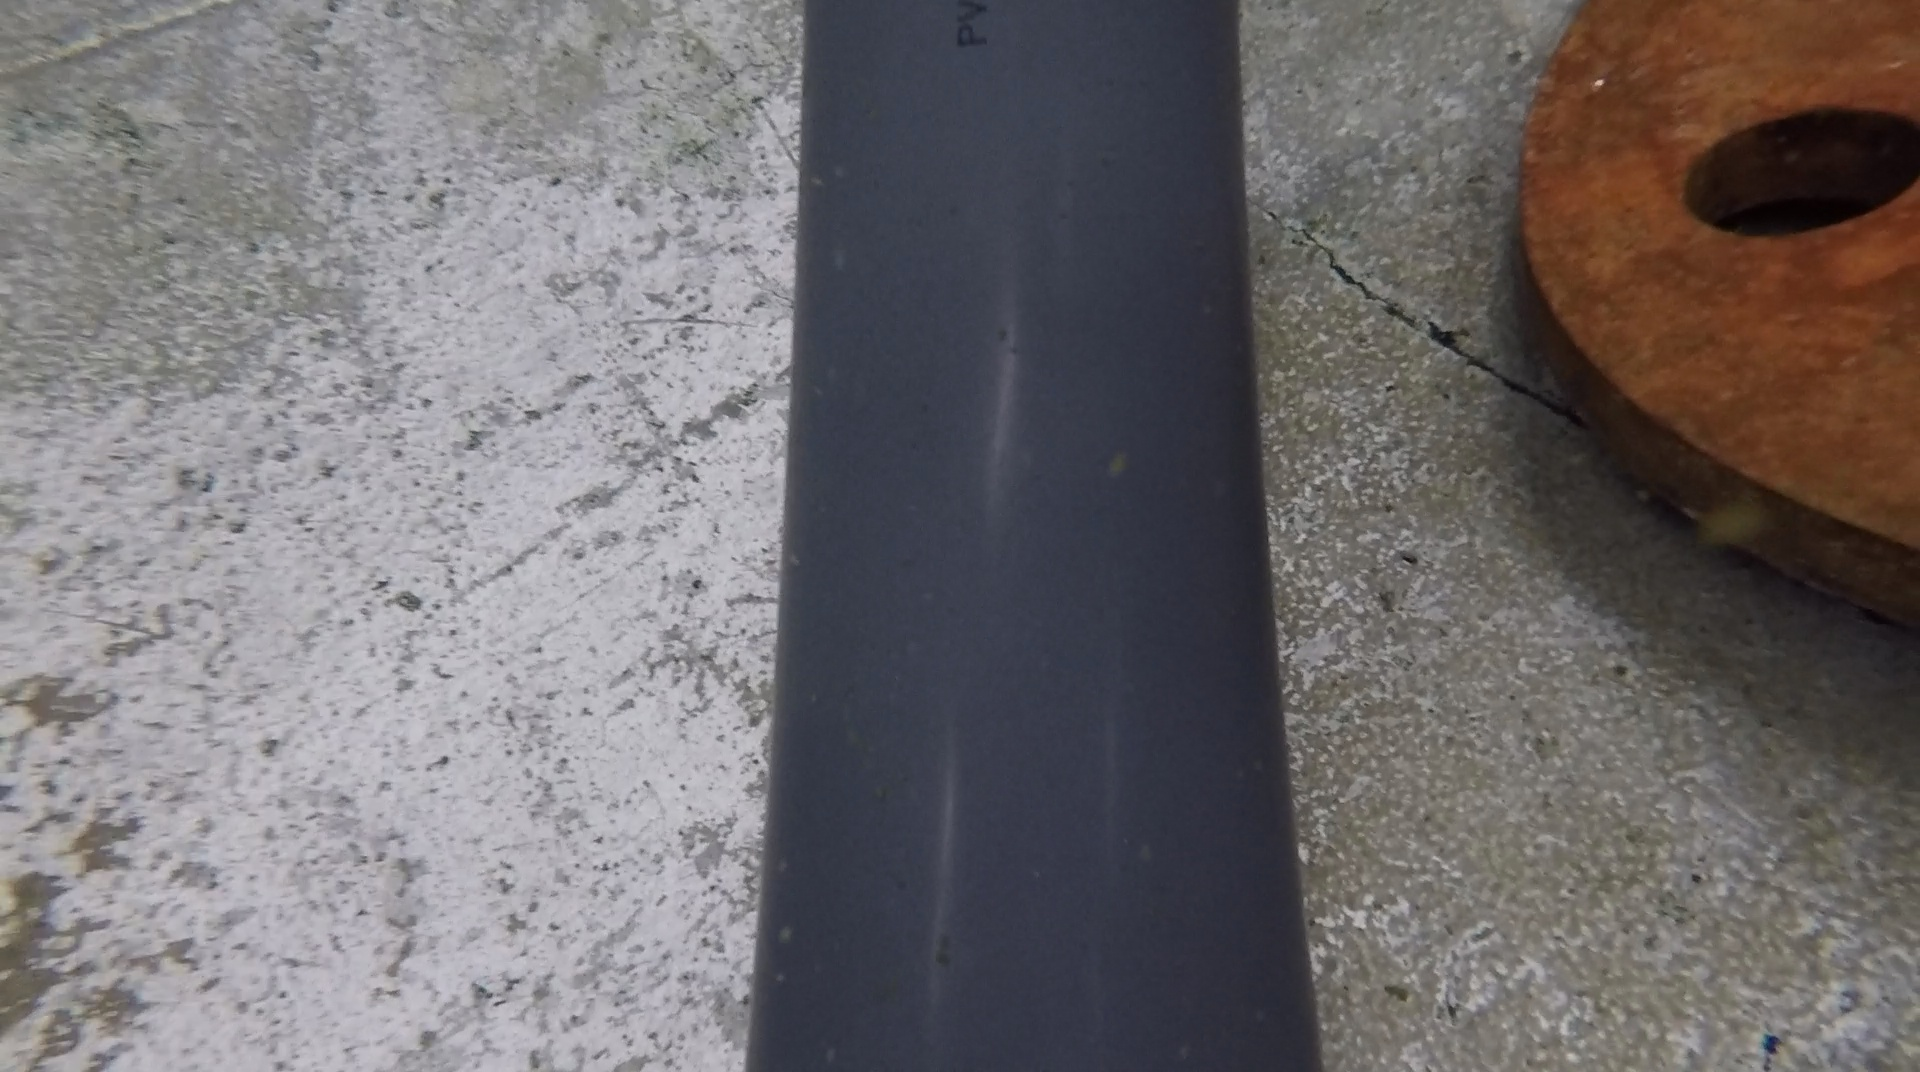flange: (1513, 1, 1920, 633)
pipe: (738, 1, 1325, 1071)
